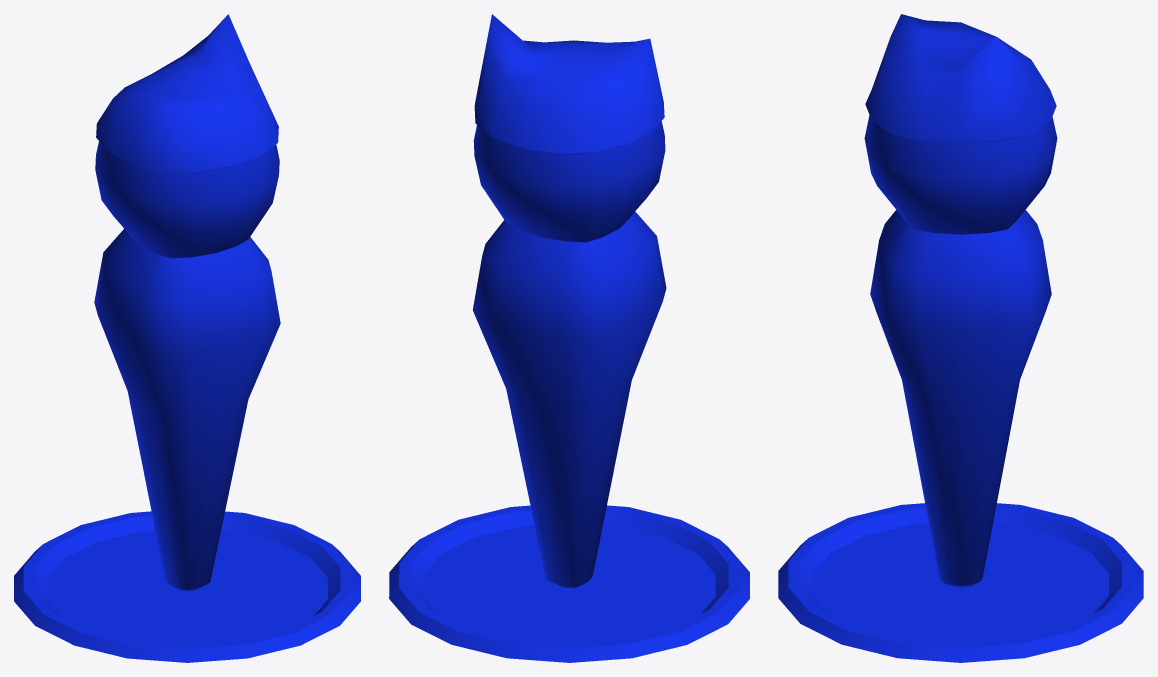
The model's file is CHA_Peg.fbx.
3 views of the same model, side by side, from view 1: azimuth 30°, elevation 25°; view 2: azimuth 150°, elevation 25°; view 3: azimuth 270°, elevation 25° (orthographic). The views are drawn at different scales.
Parts seen in each view (by area): view 1: Body; view 2: Body; view 3: Body.
Part boxes in pixels (bbox=[...]): Body: bbox=[14, 14, 360, 662]; Body: bbox=[389, 14, 749, 662]; Body: bbox=[778, 14, 1143, 662].
Bounding box in the file's own units: 1.34 × 2.3 × 1.32.
